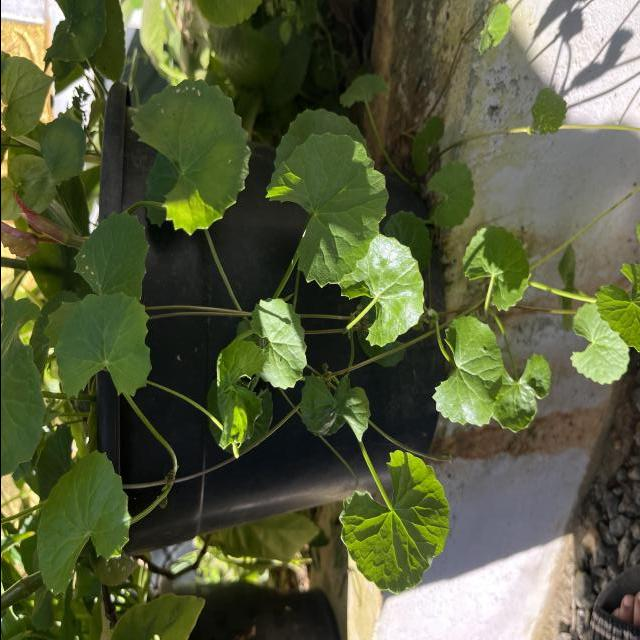Centella asiatica: (126, 76, 254, 240), (262, 130, 390, 292), (335, 448, 451, 597), (34, 446, 134, 600), (50, 290, 153, 402), (336, 232, 426, 350), (428, 312, 505, 430), (70, 207, 151, 303), (246, 294, 309, 392)
